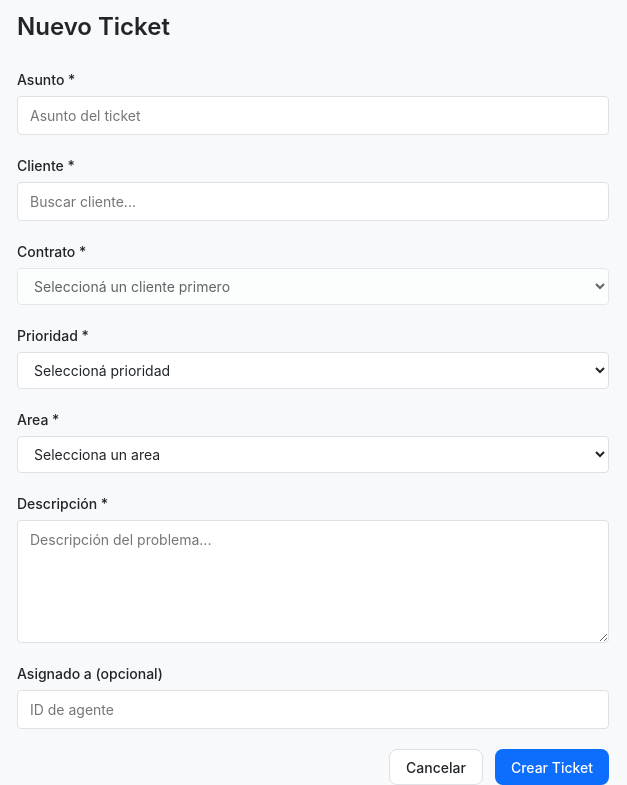
it: CreateTicketPage › populates the contract select once a client is chosen, then blocks submit until a contract is picked
Note: Pick a client via the autocomplete (getClients returns Juan Pérez).
In the field with placeholder "Buscar cliente...": (313, 202) [17, 182, 609, 221], type "Juan"
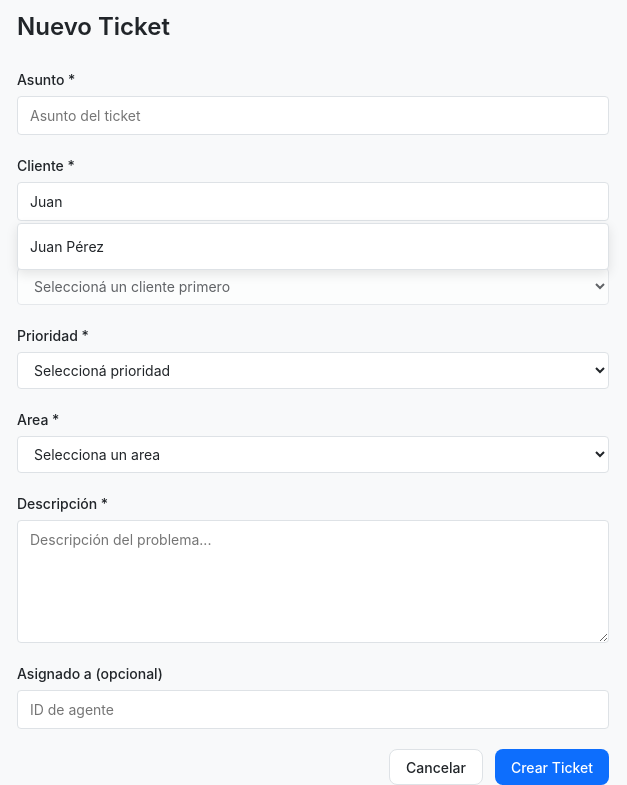
Click the list item "Juan Pérez": (67, 246) [30, 238, 104, 255]
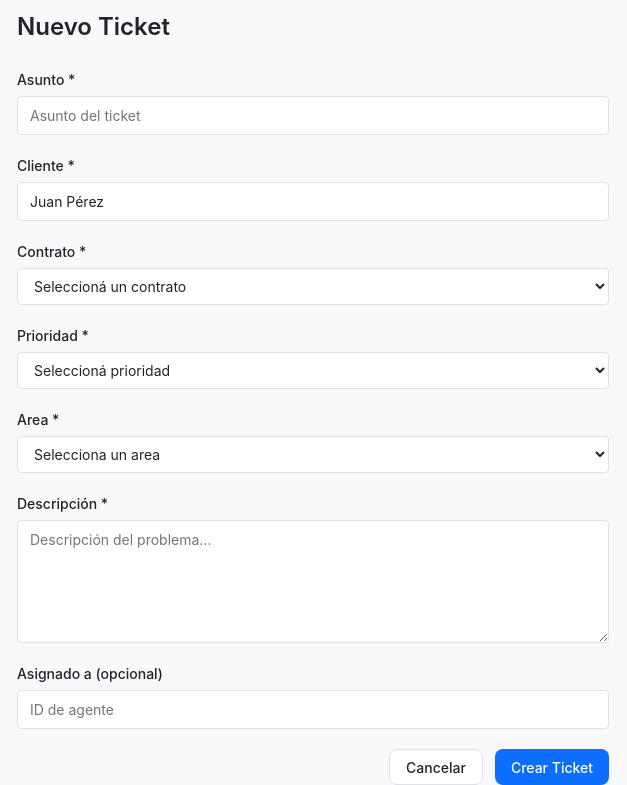
expect the dropdown labelled "Contrato" is enabled: met, box [17, 268, 609, 305]
Note: Fill the rest but leave the contract empty → submit blocked with field error.
In the field with placeholder "Asunto del ticket": (313, 116) [17, 96, 609, 135], type "Sin señal"
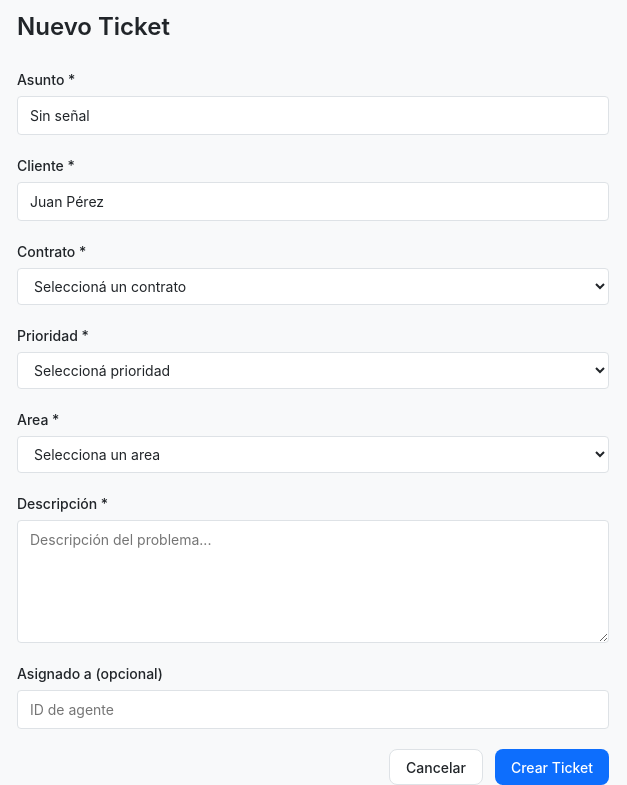
In the text box with placeholder "Descripción del problema...": (313, 582) [17, 520, 609, 643], type "No anda."
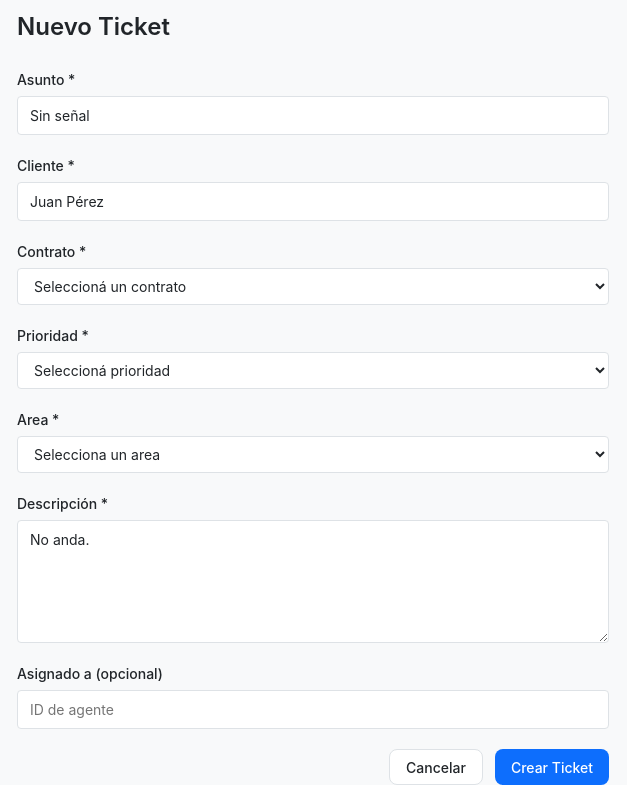
Select "Alta" in the dropdown named "Prioridad": (313, 370) [17, 352, 609, 389]
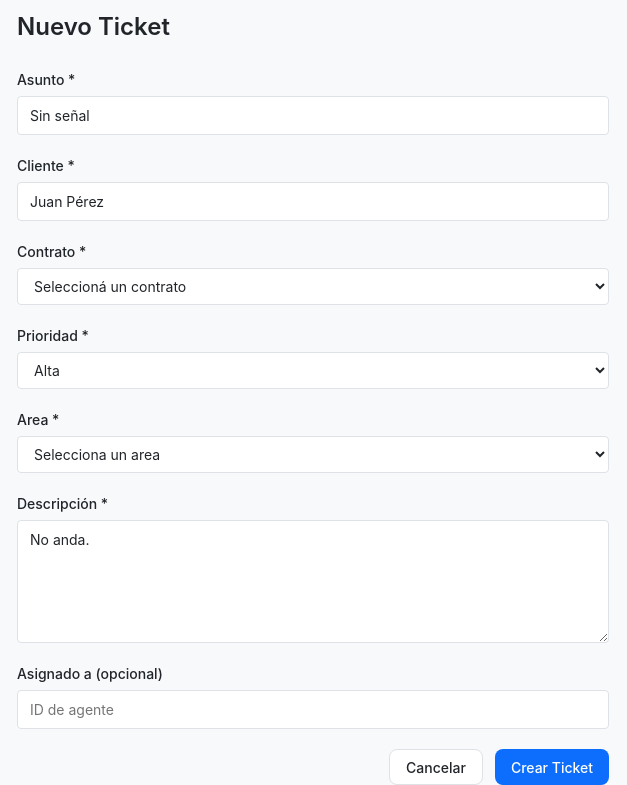
Click the button "Crear Ticket": (552, 767) [495, 749, 609, 784]
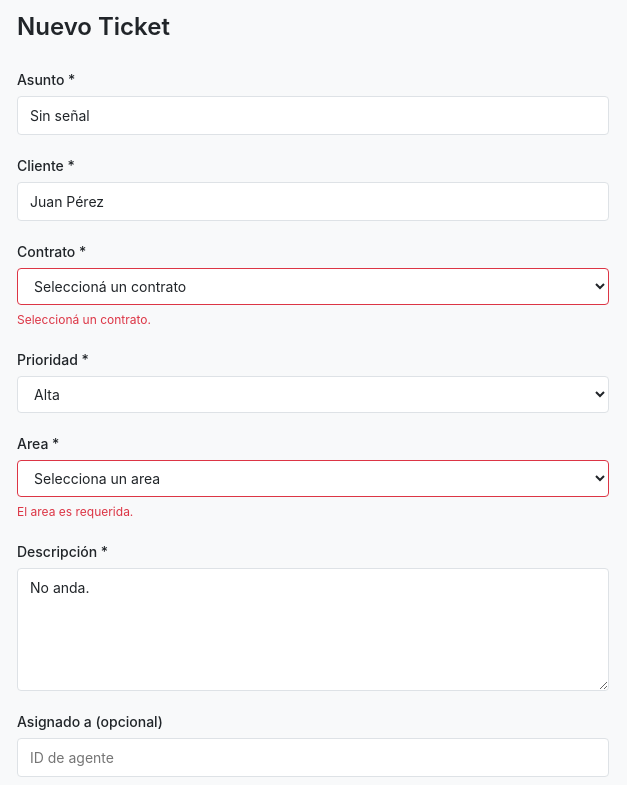
expect the text "Seleccioná un contrato." is shown: met, box [17, 312, 151, 327]
